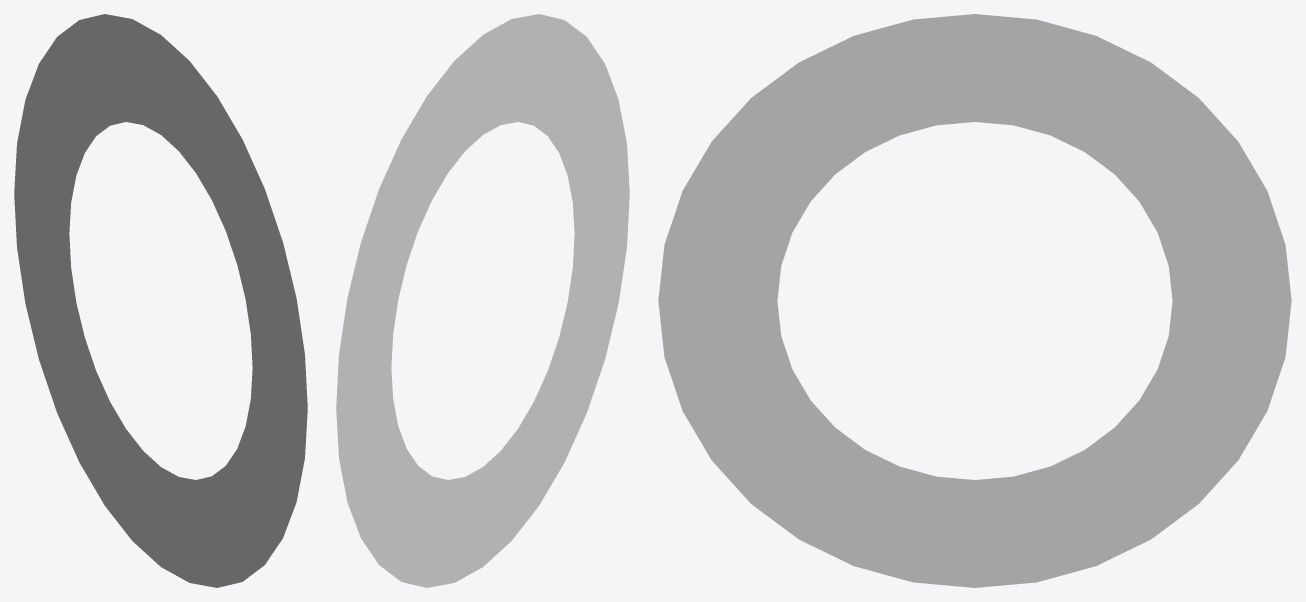
The model's file is Dounuts.gltf.
The picture shows the model from 3 angles, left to right: view 1: azimuth 30°, elevation 25°; view 2: azimuth 150°, elevation 25°; view 3: azimuth 270°, elevation 25°; orthographic projection. The views are drawn at different scales.
Parts seen in each view (by area): view 1: トーラス; view 2: トーラス; view 3: トーラス.
Boxes of the visible parts, x1,y1,x2,y2 form: トーラス: [14, 14, 307, 587]; トーラス: [336, 14, 629, 587]; トーラス: [658, 14, 1291, 587].
Size of the model in its own units: 1.5e-07 by 1.99 by 1.99.
Materials: 1 (1 with a texture image).
